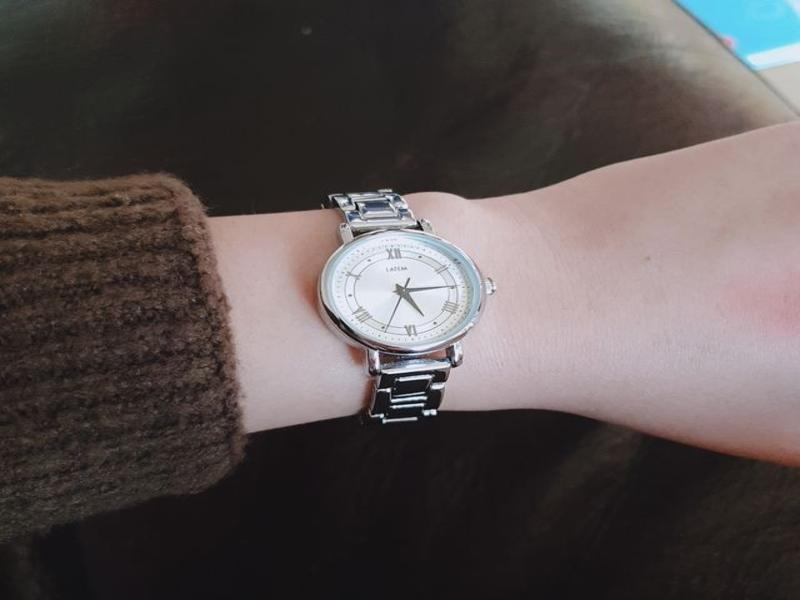watch: (319, 184, 495, 429)
